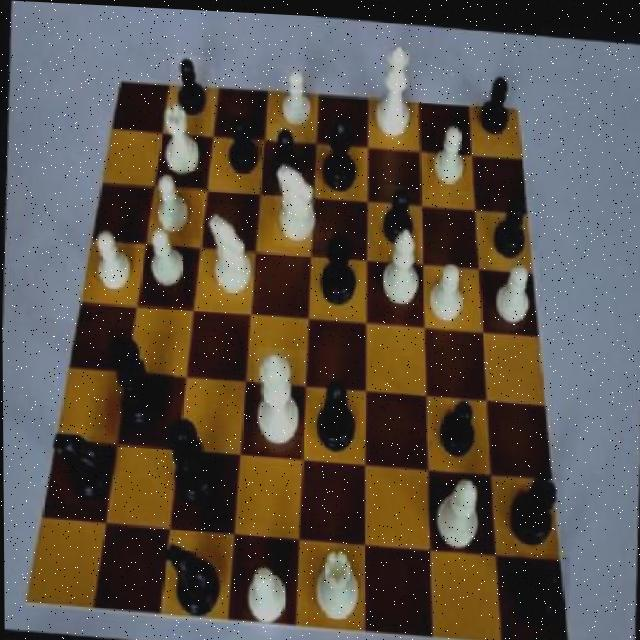bishop: (311, 371, 366, 459), (319, 105, 362, 201)
black-bishop: (105, 326, 175, 439)
black-king: (159, 534, 223, 624), (52, 425, 115, 508)
black-knight: (513, 545, 569, 621), (168, 53, 215, 129), (433, 388, 481, 461), (474, 67, 517, 142), (489, 191, 534, 260), (376, 180, 419, 252), (219, 110, 263, 179), (265, 120, 306, 188)
black-pawn: (164, 408, 225, 521)
black-queen: (507, 464, 565, 549), (312, 228, 365, 314)
black-rook: (427, 465, 488, 554), (375, 220, 420, 315)
white-bishop: (251, 343, 306, 452)
white-king: (198, 201, 261, 302), (272, 153, 321, 245)
white-knight: (489, 241, 539, 327), (141, 227, 194, 305), (423, 245, 473, 324), (83, 225, 135, 299), (151, 166, 203, 238), (242, 558, 296, 626), (427, 110, 473, 187), (279, 60, 322, 132)
white-pawn: (369, 34, 423, 147)
white-queen: (304, 540, 367, 626), (159, 100, 212, 180)
